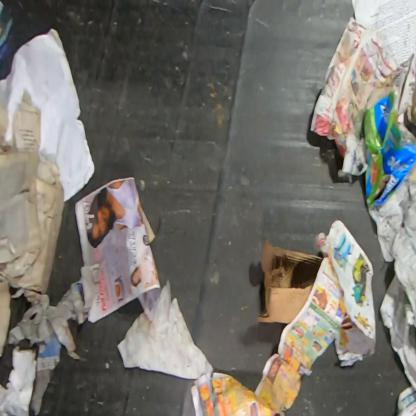cardboard: (362, 86, 416, 207), (257, 237, 323, 324)
